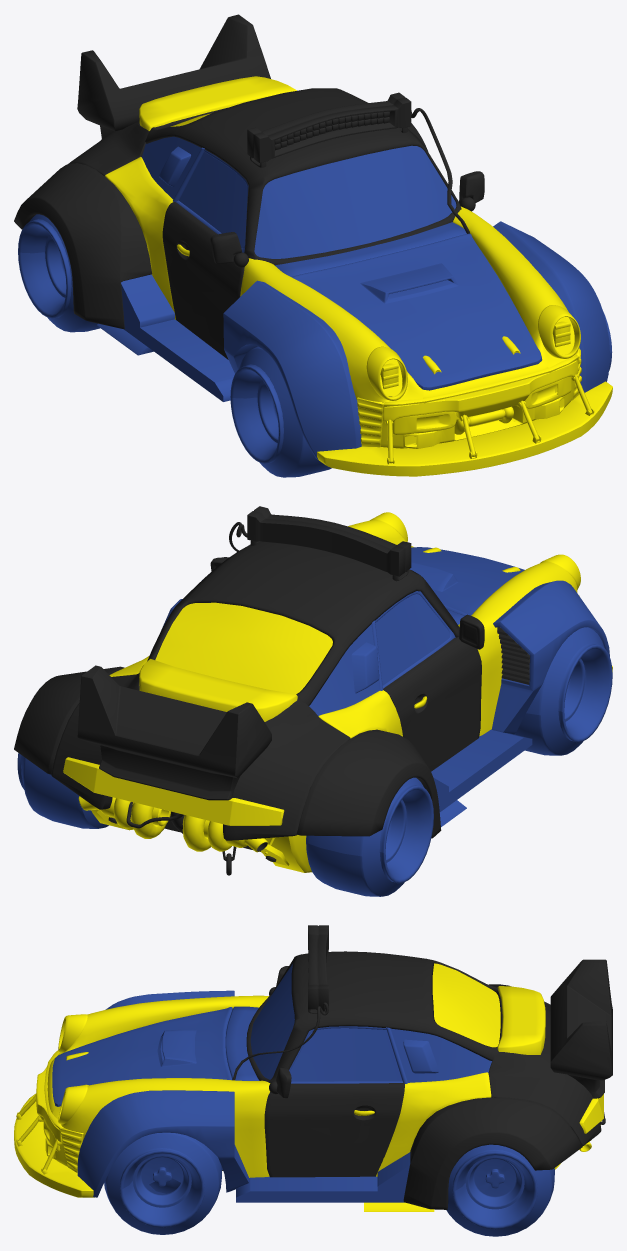
File: cyberpunk.fbx
3 renders of one model, top to bottom at view 1: azimuth 30°, elevation 25°; view 2: azimuth 150°, elevation 25°; view 3: azimuth 270°, elevation 25°, orthographic. The views are drawn at different scales.
Parts seen in each view (by area): view 1: hood_L, fwing_L, fwindow_L, frontbase_L1, roof_L, bwing_L, ffront_L, spoiler_L, bwheels_L.002, handle_L, sidespoiler_L, bwheels_L.004 (+18 smaller); view 2: spoiler_L, roof_L, bwing_L, bwindow_L, back4_L, bwheels_L.004, handle_L, bwheels_L.002, fwing_L, upbase_L, Blight_L, frontbase_L1 (+14 smaller); view 3: roof_L, handle_L, bwing_L, fwing_L, frontbase_L1, hood_L, bwheels_L.001, bwheels_L.003, spoiler_L, back4_L, swindow1_L, sidespoiler_L (+16 smaller).
Boxes of the visible parts, x1,y1,x2,y2 form: hood_L: [291, 233, 542, 390]; fwing_L: [223, 221, 610, 459]; fwindow_L: [254, 145, 456, 258]; frontbase_L1: [240, 206, 577, 448]; roof_L: [145, 88, 461, 265]; bwing_L: [14, 123, 428, 329]; ffront_L: [317, 381, 612, 476]; spoiler_L: [77, 14, 270, 139]; bwheels_L.002: [230, 346, 331, 477]; handle_L: [162, 202, 459, 359]; sidespoiler_L: [97, 274, 234, 401]; bwheels_L.004: [18, 214, 100, 332]; spoiler_L: [77, 665, 271, 800]; roof_L: [147, 541, 459, 705]; bwing_L: [14, 666, 441, 838]; bwindow_L: [155, 602, 332, 694]; back4_L: [51, 673, 350, 840]; bwheels_L.004: [306, 777, 433, 896]; handle_L: [383, 637, 481, 771]; bwheels_L.002: [515, 627, 612, 755]; fwing_L: [491, 580, 609, 734]; upbase_L: [247, 506, 411, 581]; Blight_L: [63, 757, 284, 825]; frontbase_L1: [348, 520, 577, 736]; roof_L: [246, 951, 502, 1082]; handle_L: [264, 1083, 404, 1177]; bwing_L: [403, 984, 582, 1209]; fwing_L: [77, 990, 249, 1197]; frontbase_L1: [45, 995, 270, 1177]; hood_L: [52, 1007, 232, 1106]; bwheels_L.001: [104, 1132, 221, 1234]; bwheels_L.003: [446, 1144, 554, 1236]; spoiler_L: [550, 959, 612, 1098]; back4_L: [488, 1003, 601, 1145]; swindow1_L: [290, 1028, 402, 1081]; sidespoiler_L: [236, 1152, 410, 1202].
Size of the model in its own units: 1.2 by 0.8104 by 2.
